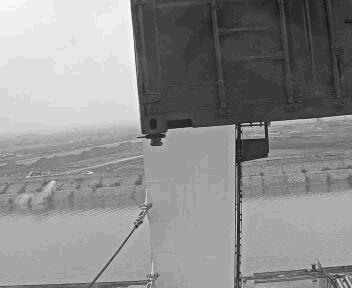twist_lock_1: (117, 194, 227, 263)
